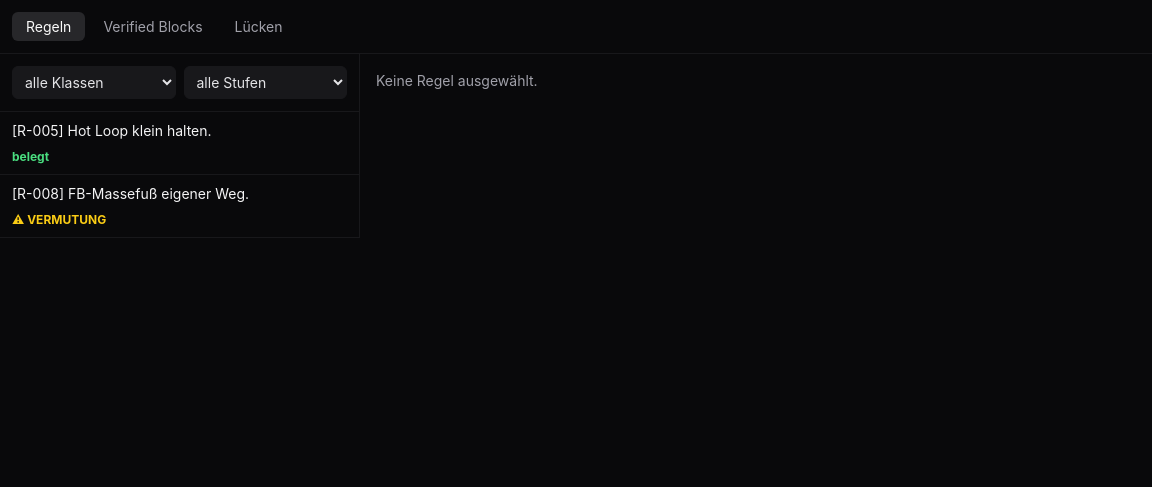
Test: WissensPanel › zeigt quelle.url im Regel-Detail als Link
Click the text "[R-005] Hot Loop klein halten.". click: (112,130)
box: left=12, top=122, right=212, bottom=139
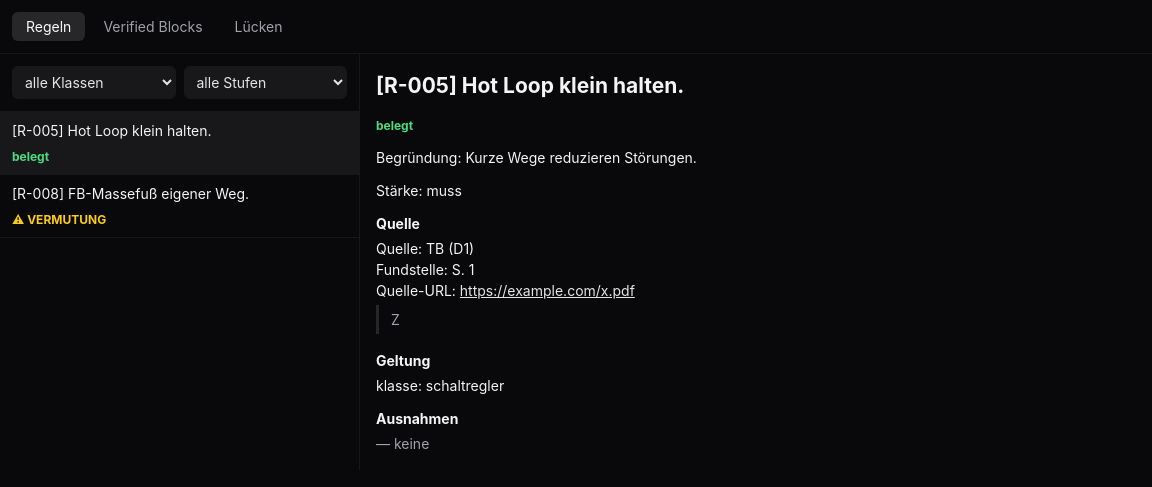
Result: the link "https://example.com/x.pdf" is shown at left=460, top=282, right=635, bottom=298
